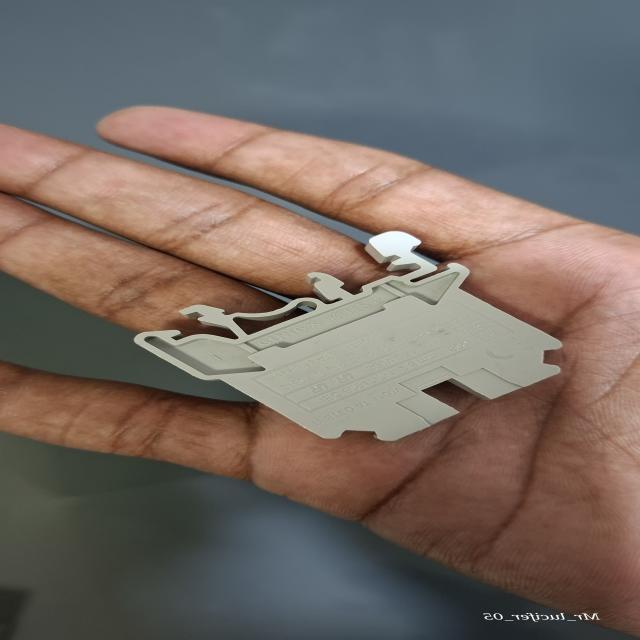Inverted: (126, 230, 579, 450)
